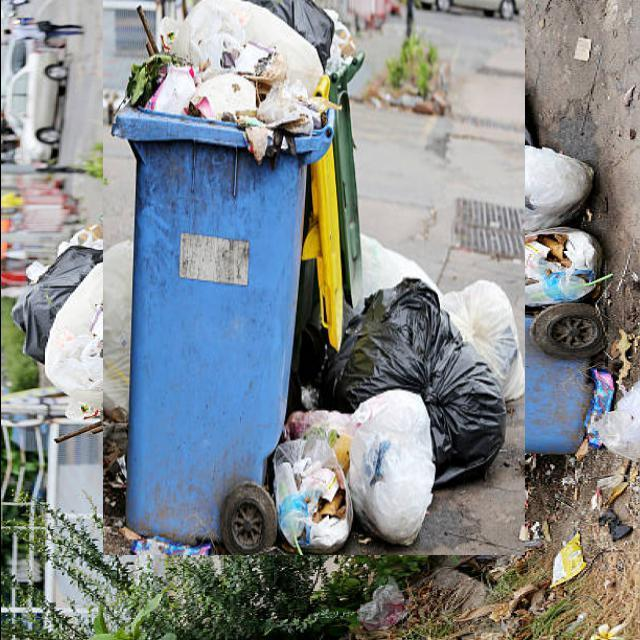Trashbag: (315, 279, 510, 487)
